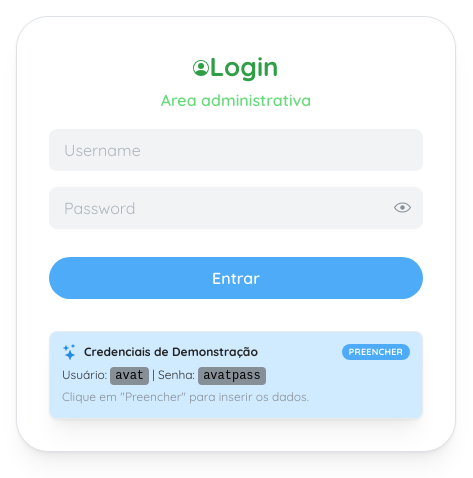
Scenario: LoginPage Component (Requisitos 5, 7 e 8) › preenche campos de login ao clicar no botão de credenciais de demonstração
Click the text "Preencher" at [376, 352], box x1=349 y1=345 x2=403 y2=359
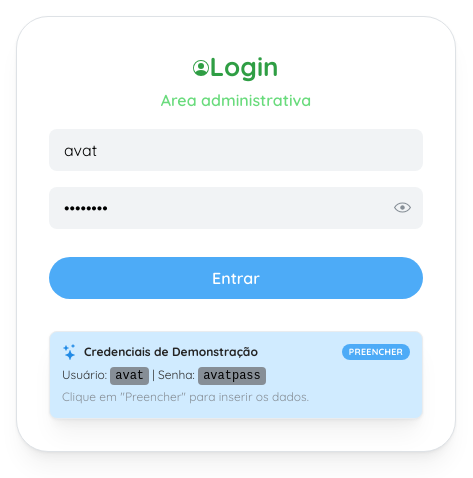
Now the field with placeholder "Username" holds "avat", box x1=49 y1=129 x2=423 y2=171
Now the password field with placeholder "Password" holds "avatpass", box x1=50 y1=188 x2=422 y2=228
